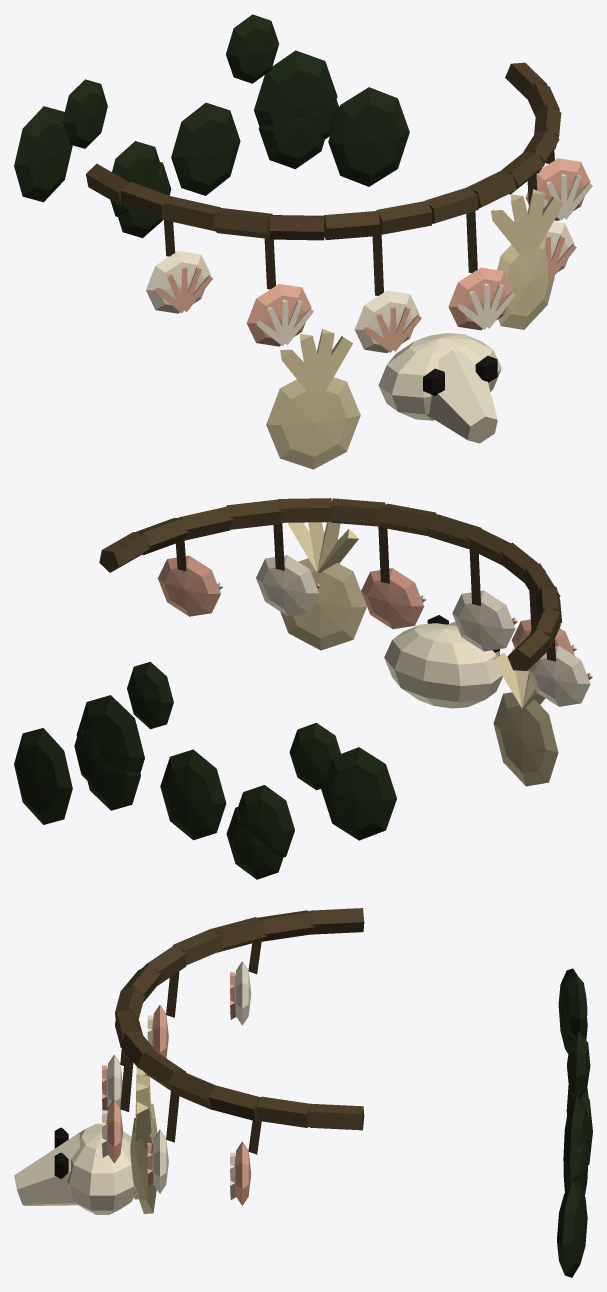
The model's file is pondkin_mudcaller_chest.glb.
3 views of the same model, one above another, from view 1: azimuth 30°, elevation 25°; view 2: azimuth 150°, elevation 25°; view 3: azimuth 270°, elevation 25° (orthographic). The views are drawn at different scales.
Parts seen in each view (by area): view 1: pondkin_mudcaller_chest; view 2: pondkin_mudcaller_chest; view 3: pondkin_mudcaller_chest.
Part boxes in pixels (x1,y1,x2,y2): pondkin_mudcaller_chest: (14, 14, 592, 469); pondkin_mudcaller_chest: (14, 498, 592, 879); pondkin_mudcaller_chest: (14, 908, 592, 1277).
Bounding box in the file's own units: 0.8443 × 0.4574 × 0.9784.
